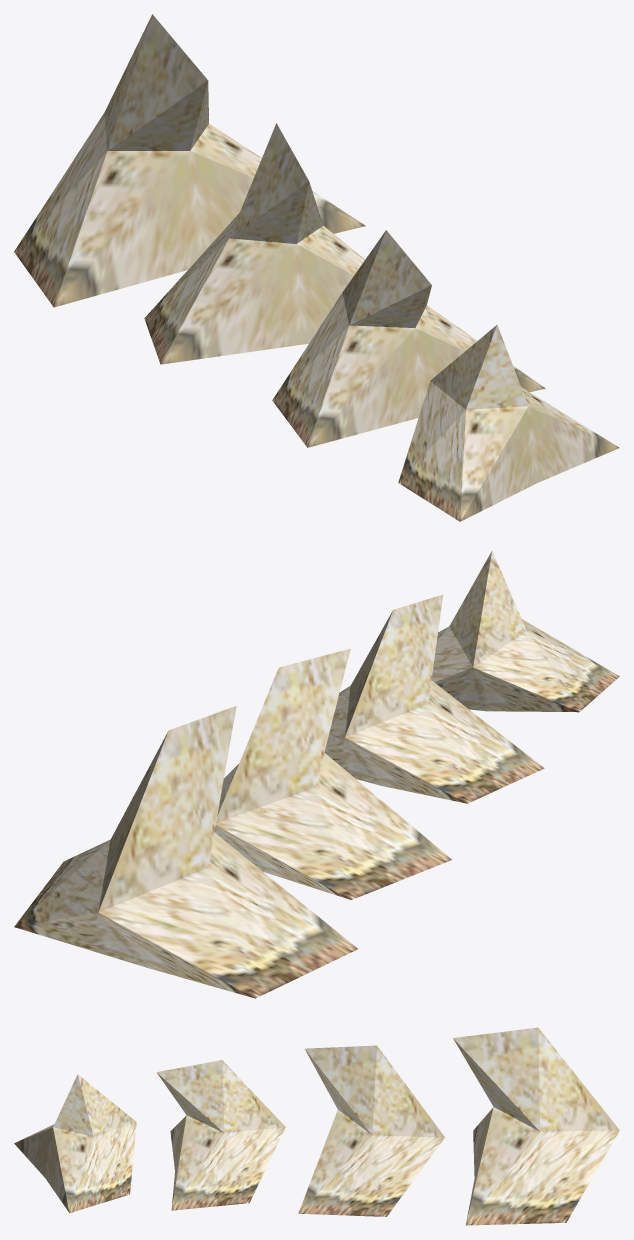
The model's file is poi_tato_skel_grtr_krayt_spine_s01_l1.fbx.
The picture shows the model from 3 angles, top to bottom: view 1: azimuth 30°, elevation 25°; view 2: azimuth 150°, elevation 25°; view 3: azimuth 270°, elevation 25°; orthographic projection. The views are drawn at different scales.
Visible parts, largest first — view 1: mesh_node; view 2: mesh_node; view 3: mesh_node.
Part boxes in pixels (bbox=[...]): mesh_node: bbox=[14, 14, 619, 521]; mesh_node: bbox=[14, 550, 619, 998]; mesh_node: bbox=[14, 1027, 619, 1225].
Size of the model in its own units: 1.5 by 1.12 by 3.76.
1 material, 1 textured.
